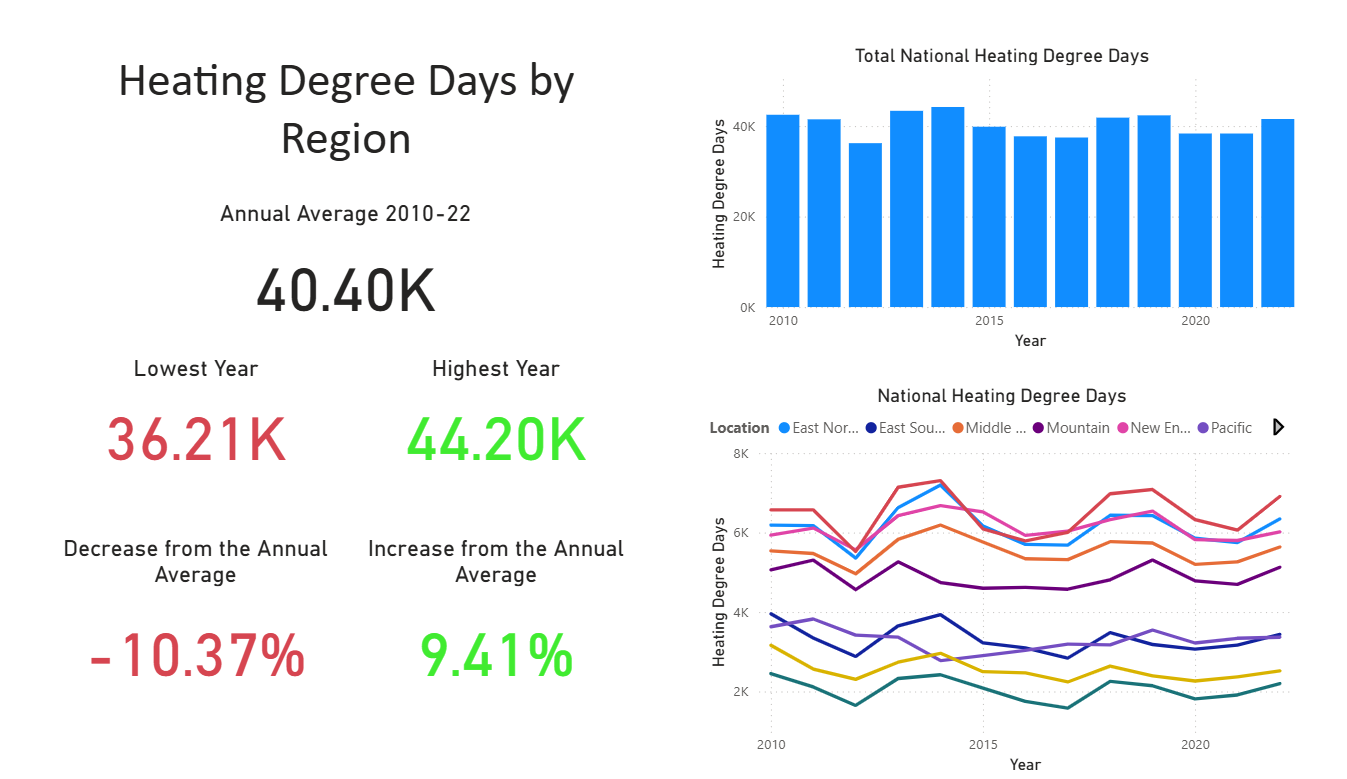

The dashboard page shown, as its layout file describes it:
{"tool":"powerbi","page":{"name":"Heating Deg Days","canvas":[1280,720],"ordinal":3},"visuals":[{"type":"columnChart","title":"Total National Heating Degree Days","fields":{"Category":["heating_days_consistent.YEAR"],"Y":["Sum(heating_days_consistent.VALUE)"]},"box":[680.9,59.3,535,279.1],"z":0},{"type":"lineChart","title":"National Heating Degree Days","fields":{"Series":["heating_days_consistent.Location"],"Y":["Sum(heating_days_consistent.VALUE)"],"Category":["heating_days_consistent.YEAR"]},"box":[680.9,364.7,535,355],"z":1000},{"type":"textbox","box":[104.1,59.3,509.9,161.6],"z":2000},{"type":"card","title":"Annual Average 2010-22","fields":{"Values":["heating_days_consistent.average"]},"box":[212.8,199.3,291.8,123.9],"z":3000},{"type":"card","title":"Lowest Year","fields":{"Values":["heating_days_consistent.min_year_value"]},"box":[89.5,338.5,269.4,112.8],"z":4000},{"type":"card","title":"Highest Year","fields":{"Values":["heating_days_consistent.max_year_value"]},"box":[358.9,338.5,269.4,112.8],"z":5000},{"type":"card","title":"Decrease from the Annual Average","fields":{"Values":["heating_days_consistent.min_diff"]},"box":[89.5,499.9,268.4,155.6],"z":6000},{"type":"card","title":"Increase from the Annual Average","fields":{"Values":["heating_days_consistent.max_diff_percent"]},"box":[358.9,499.9,269.4,155.6],"z":7000}]}

Visuals, with their boxes in screenshot pixels (x1, y1, x2, y2), scaled from the page's 1280x720 canvas onto the 1347x779 screenshot:
"Total National Heating Degree Days" columnChart: [left=717, top=64, right=1280, bottom=366]
"National Heating Degree Days" lineChart: [left=717, top=395, right=1280, bottom=778]
textbox: [left=110, top=64, right=646, bottom=239]
"Annual Average 2010-22" card: [left=224, top=216, right=531, bottom=350]
"Lowest Year" card: [left=94, top=366, right=378, bottom=488]
"Highest Year" card: [left=378, top=366, right=661, bottom=488]
"Decrease from the Annual Average" card: [left=94, top=541, right=377, bottom=709]
"Increase from the Annual Average" card: [left=378, top=541, right=661, bottom=709]
